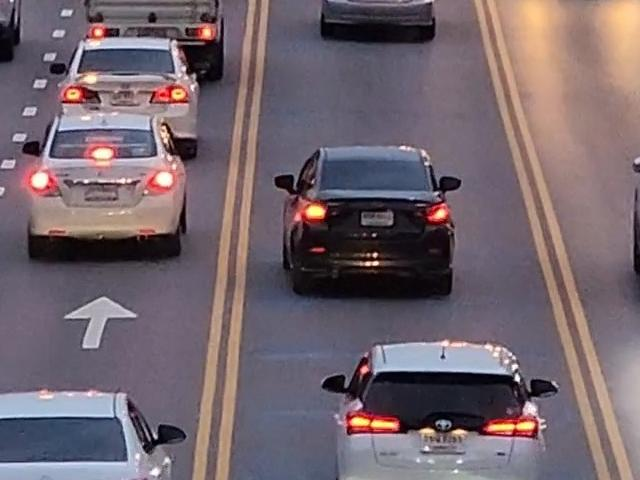car: (310, 338, 590, 480), (270, 138, 480, 318), (3, 112, 203, 275), (0, 385, 196, 480), (66, 39, 210, 148), (306, 0, 466, 48)
pickup-truck: (70, 0, 243, 94)
